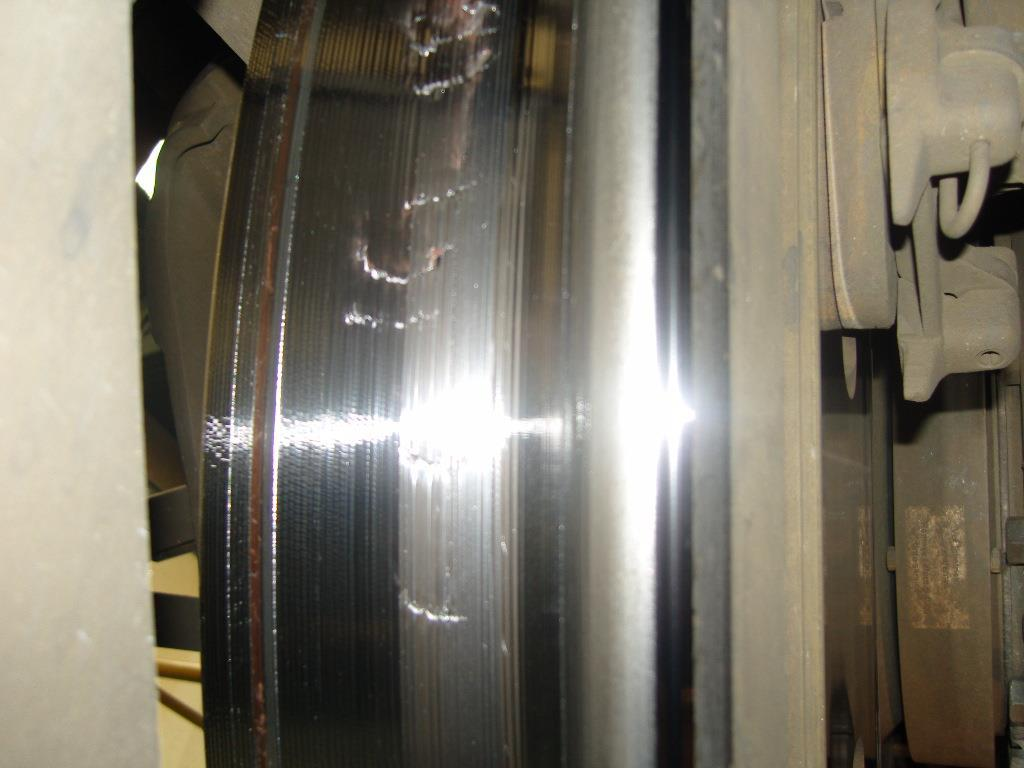Cracks-Scratches: (410, 2, 504, 97), (354, 240, 455, 286), (342, 296, 444, 333), (402, 589, 468, 629), (404, 177, 479, 212)
